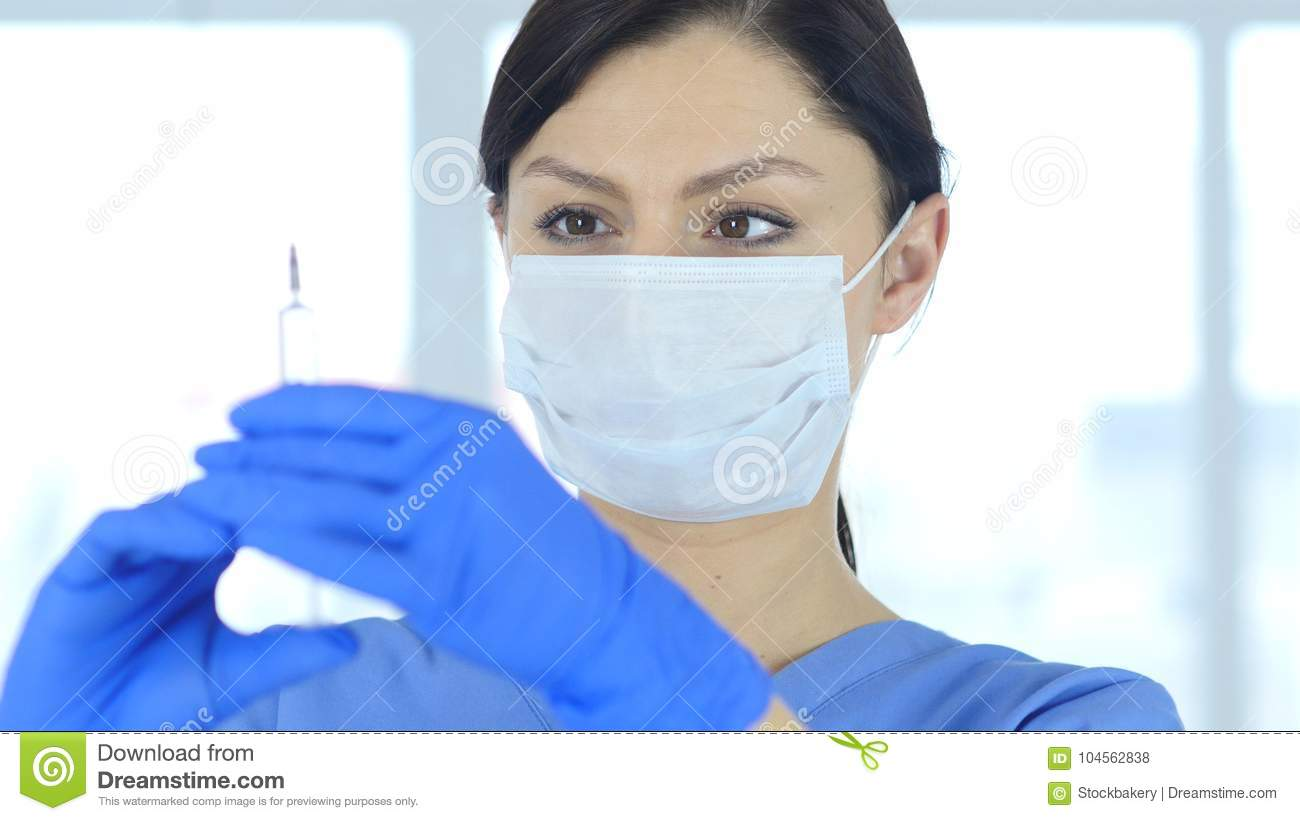mask: (489, 238, 855, 530)
